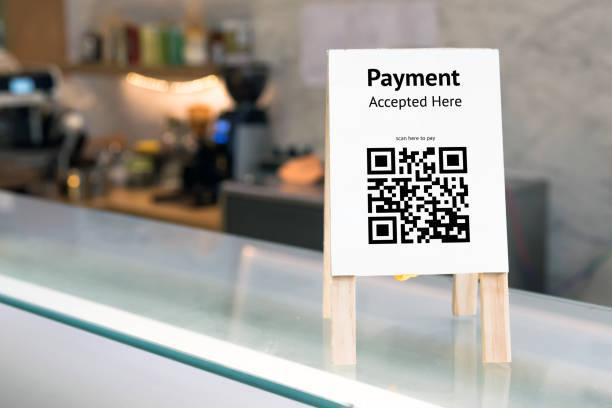Finder pattern: (366, 213, 402, 248), (436, 145, 470, 178), (364, 146, 400, 176)
